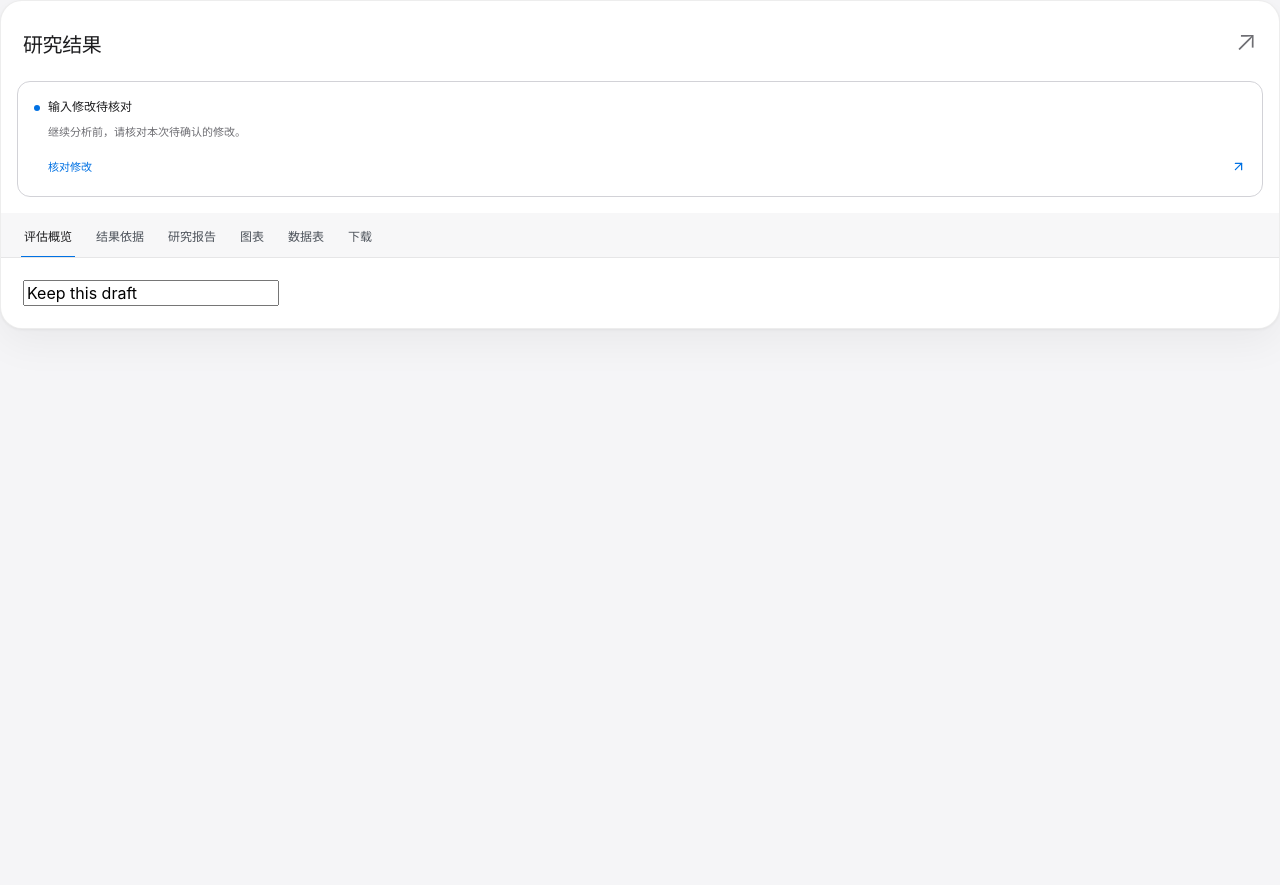
Test: evidence graph entry › returns to the staged input review without losing the evidence graph entry
Click the tab "结果依据": x=120, y=235 [93,213,147,257]
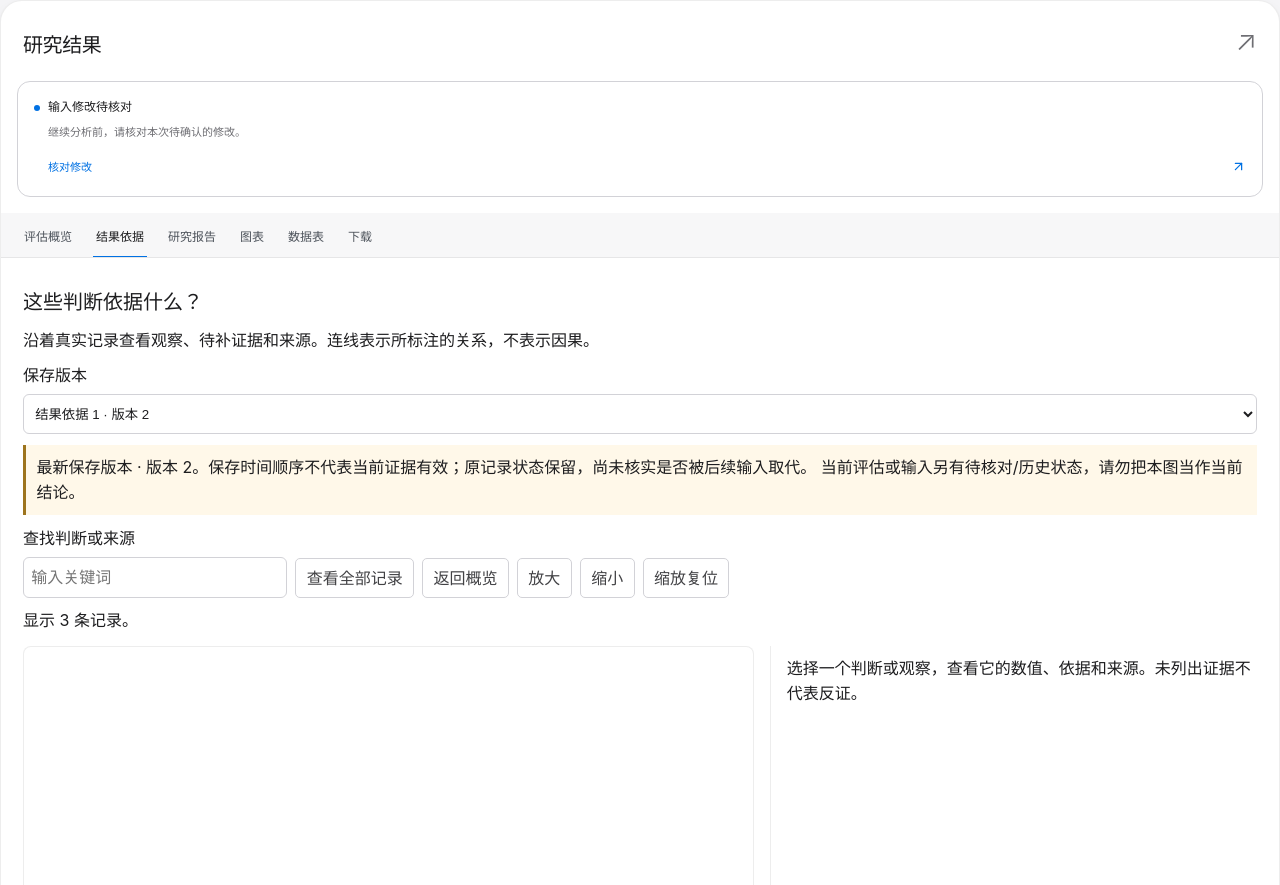
Now the heading "这些判断依据什么？" is shown, box [23,290,203,314]
Click the button "核对修改": x=70, y=167 [48,151,1246,181]
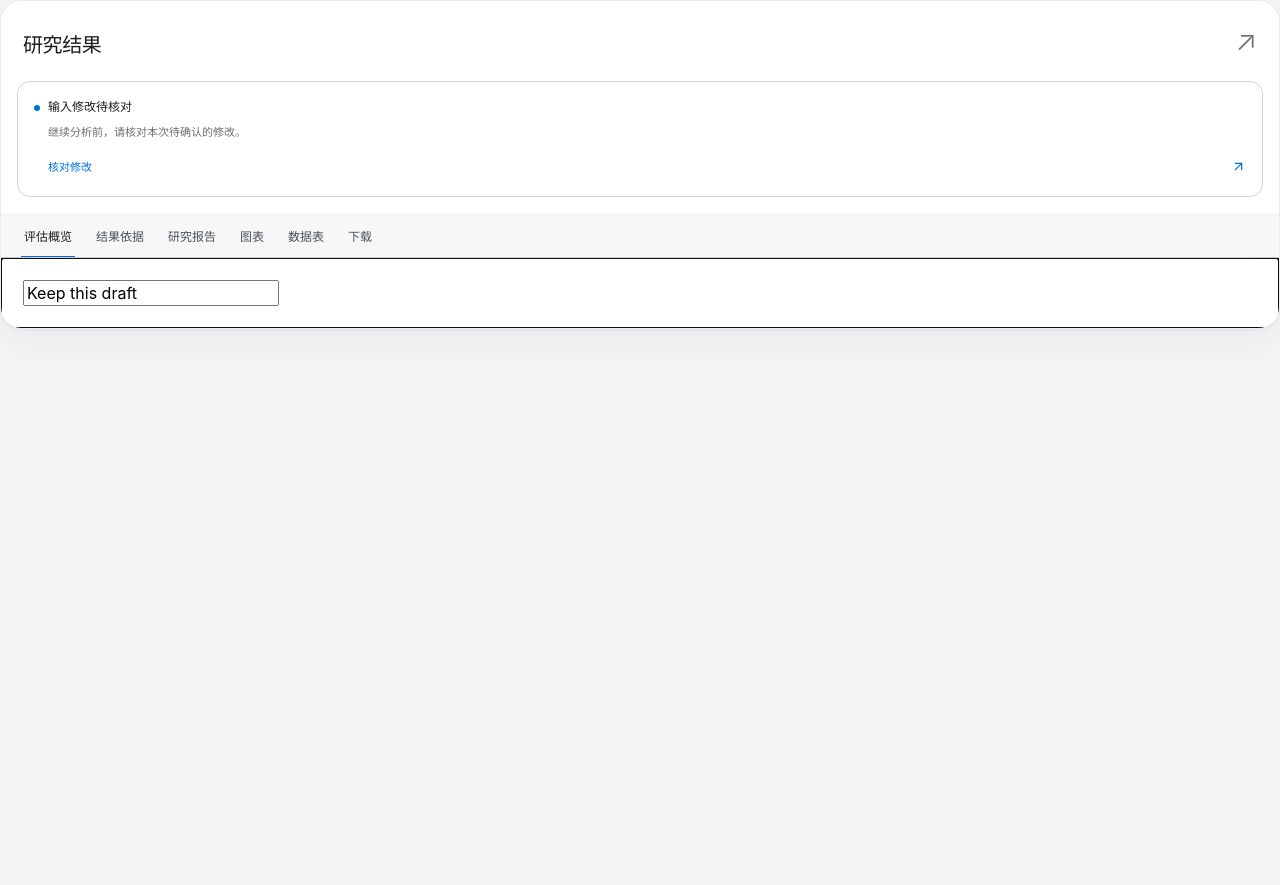
Now the field named "Research note" holds "Keep this draft", box [23,280,279,306]
Click the tab "结果依据": x=120, y=235 [93,213,147,257]
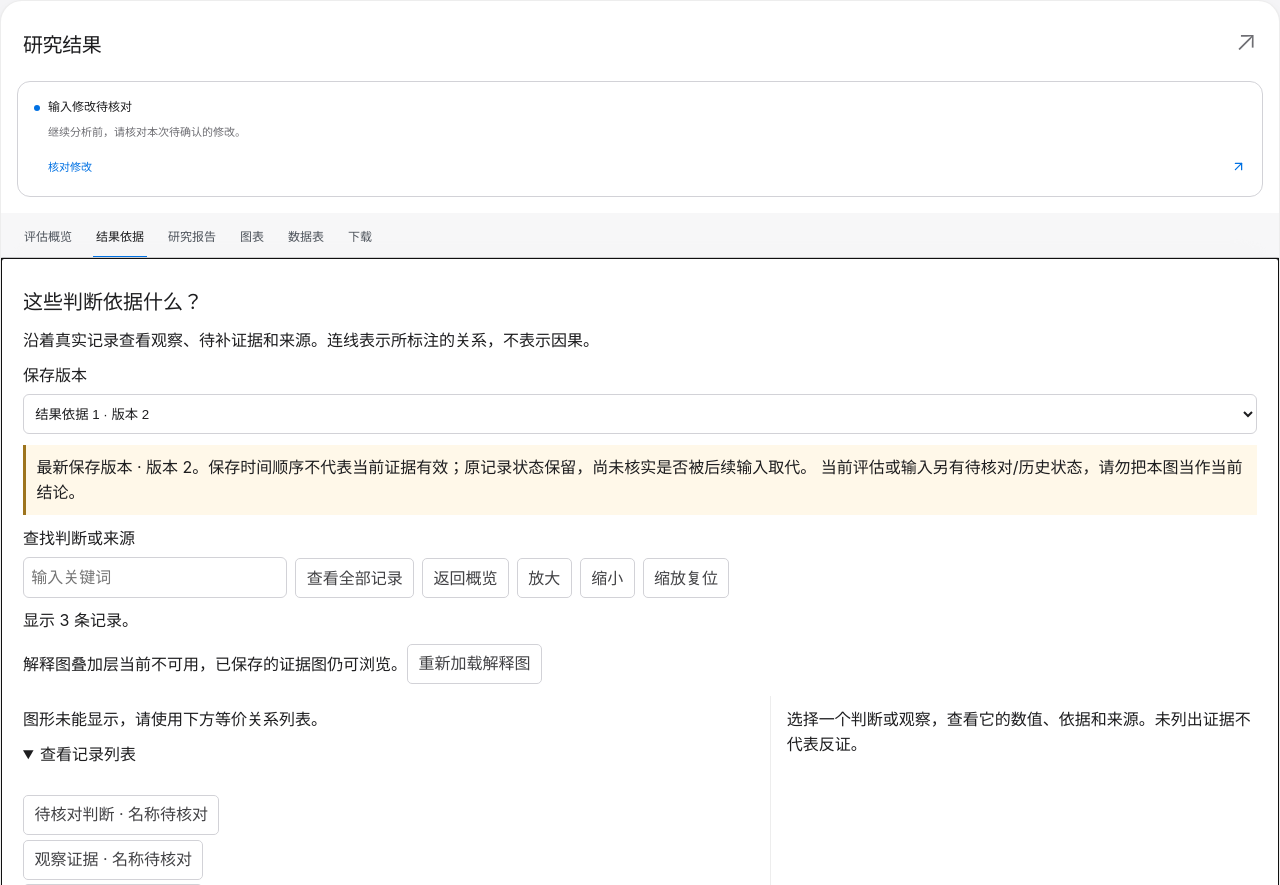
Now the heading "这些判断依据什么？" is shown, box [23,290,203,314]
